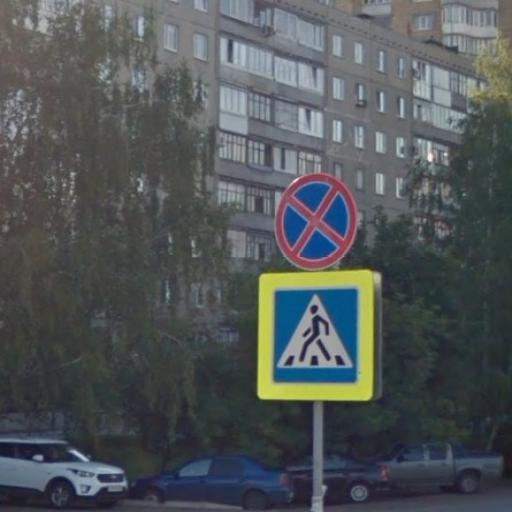traffic_sign: (255, 268, 388, 404), (273, 169, 362, 274)
